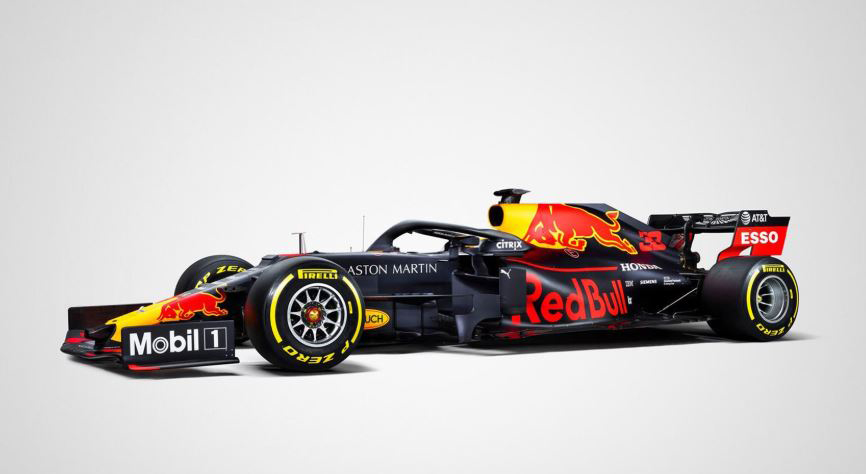F1 Car: (52, 183, 811, 381)
